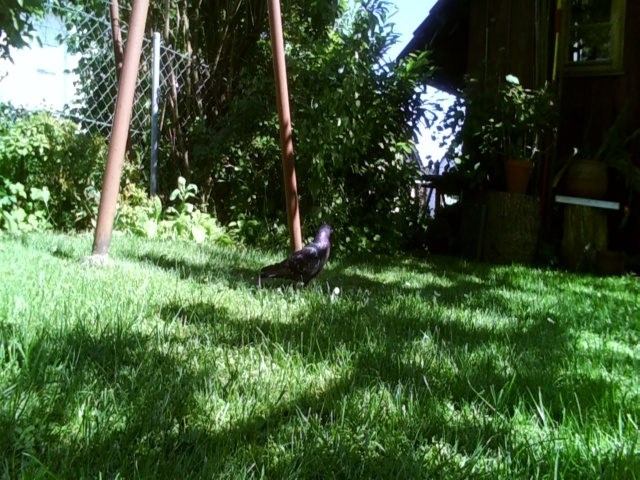Pigeon: (249, 222, 338, 287)
